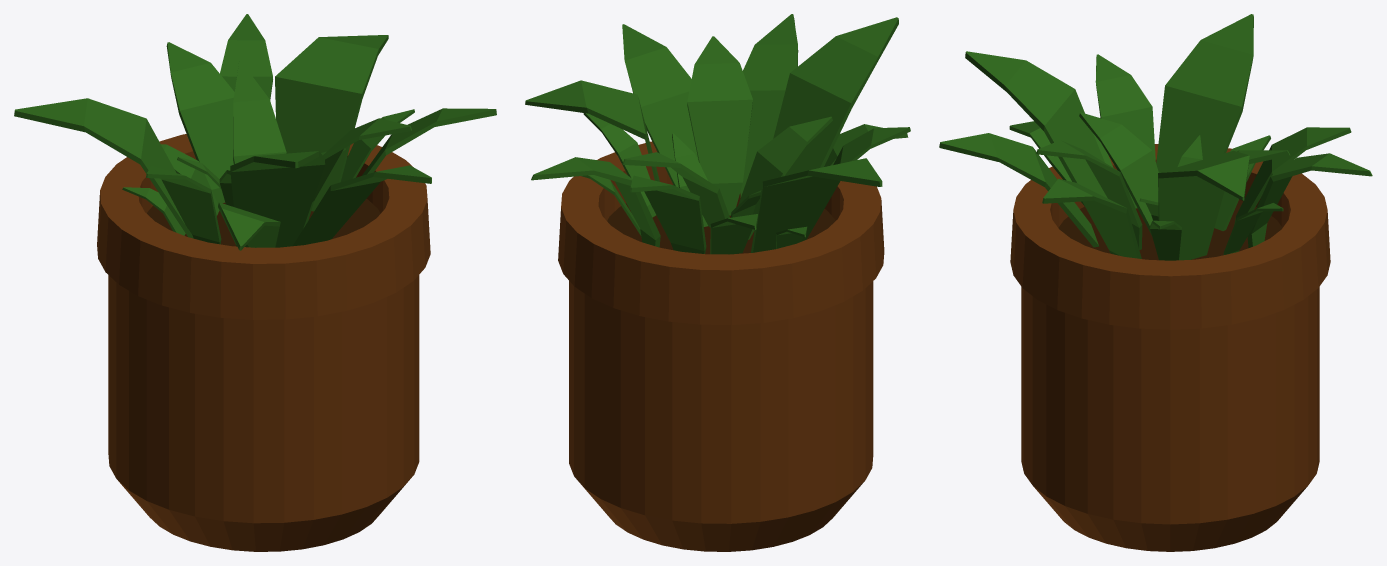
File: M_PotDeFleursMarron.fbx
3 views of the same model, side by side, from view 1: azimuth 30°, elevation 25°; view 2: azimuth 150°, elevation 25°; view 3: azimuth 270°, elevation 25° (orthographic). The views are drawn at different scales.
Visible parts, largest first — view 1: Cylinder; view 2: Cylinder; view 3: Cylinder.
Boxes of the visible parts, left/top/right/bottom form: Cylinder: left=14, top=14, right=496, bottom=551; Cylinder: left=525, top=14, right=910, bottom=551; Cylinder: left=939, top=14, right=1372, bottom=551.
Size of the model in its own units: 179 by 199 by 188.
